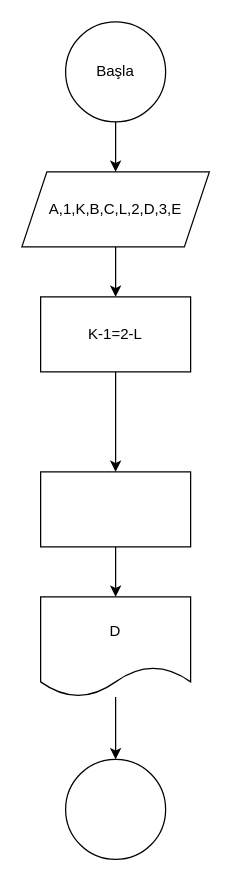
Some shapes in this 231 by 881 pixel diagram are drawn without their labels. The shapes that lost their labels are listed below. From the top down, each one's box as (x1, y1, x2, y2) in pixels, then its label:
(39, 471, 191, 547): K.L
(64, 758, 166, 859): DUR
